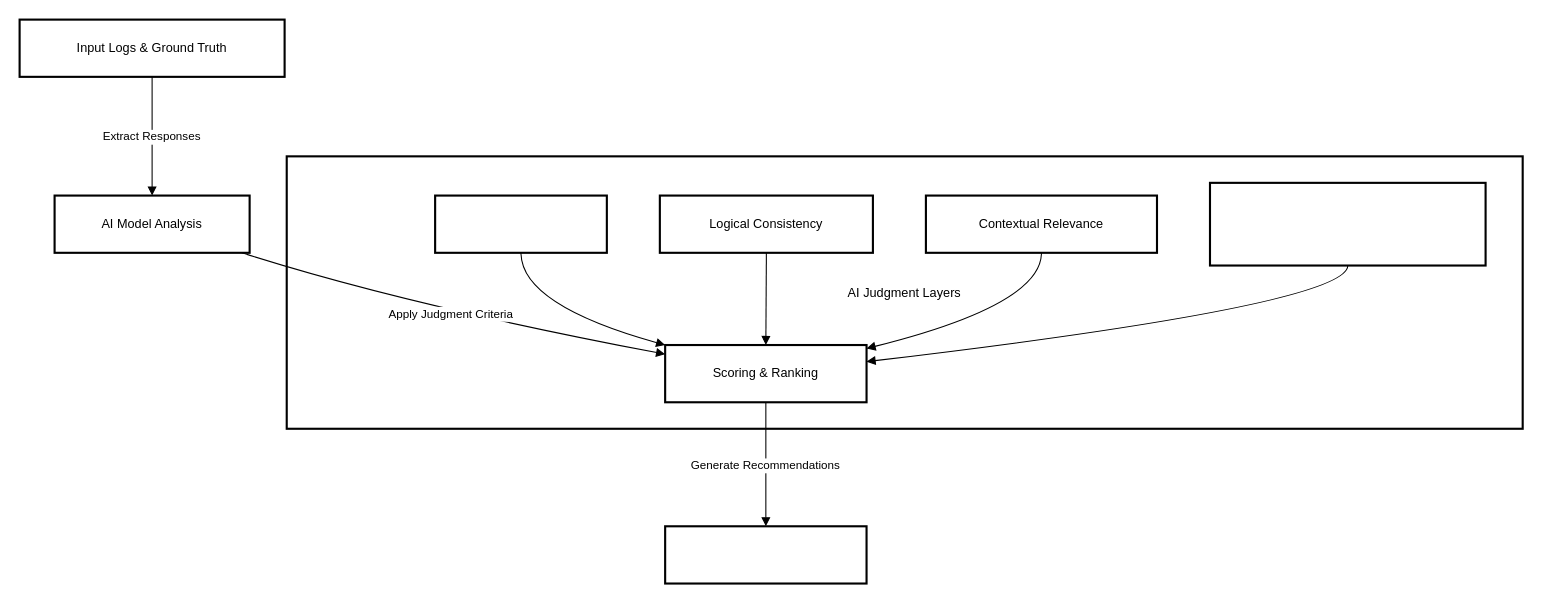
This 1541x602 diagram has some shape labels left out. Each missing label, with the box of its shape:
Error & Hallucination Detection: (1208, 181, 1486, 266)
Fact Checking: (434, 194, 607, 253)
Insights & Reports: (664, 525, 867, 584)
